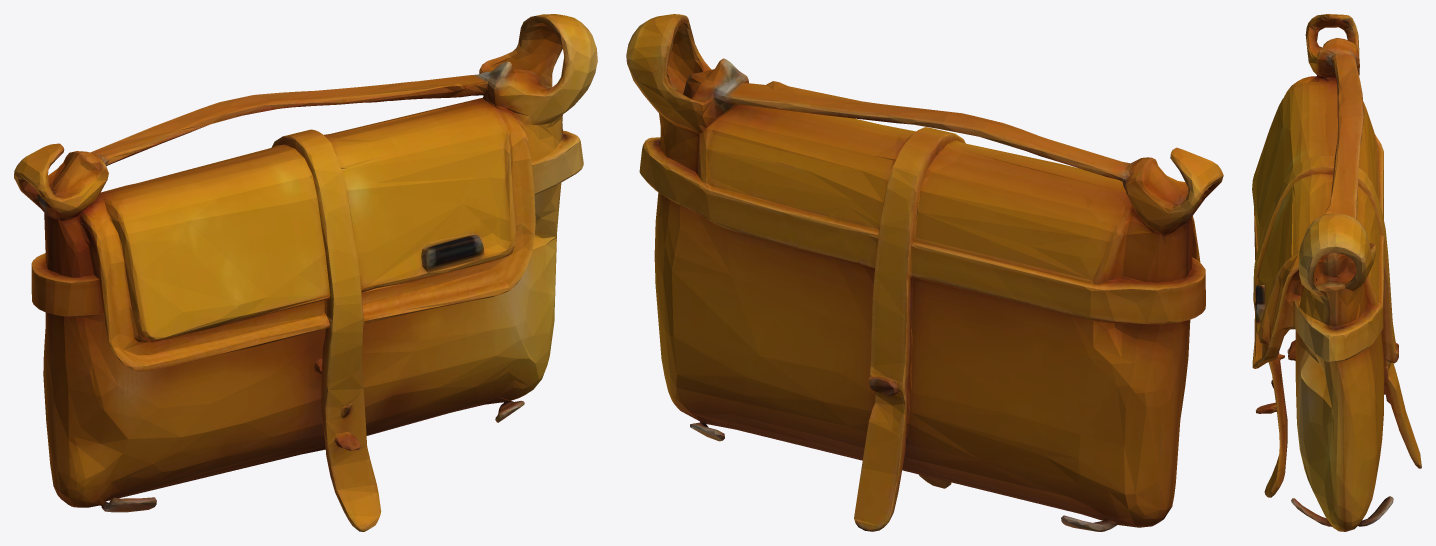
The picture shows the model from 3 angles, left to right: view 1: azimuth 30°, elevation 25°; view 2: azimuth 150°, elevation 25°; view 3: azimuth 270°, elevation 25°; orthographic projection. The views are drawn at different scales.
Parts seen in each view (by area): view 1: geometry_0; view 2: geometry_0; view 3: geometry_0.
Part boxes in pixels (box(x1,y1,x2,y2)): geometry_0: box(14, 14, 597, 531); geometry_0: box(626, 14, 1223, 531); geometry_0: box(1252, 14, 1421, 531).
Bounding box in the file's own units: 0.998 × 0.7337 × 0.3018.
1 material, 1 textured.
